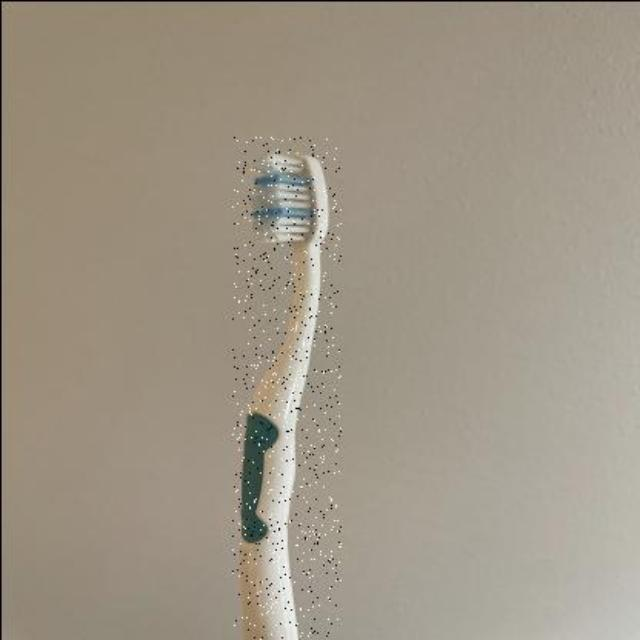toothbrush: (230, 134, 340, 640)
